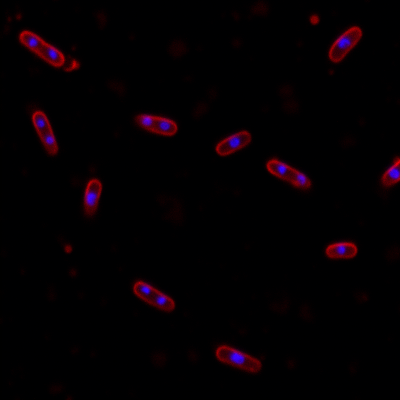CAM: (18, 30, 65, 68), (265, 158, 312, 191), (327, 26, 365, 64), (132, 280, 176, 312), (216, 344, 262, 373), (213, 129, 253, 157), (326, 240, 359, 261)
Oblique: (30, 110, 59, 157), (134, 114, 178, 137), (82, 177, 103, 218)
Vesicle: (63, 243, 74, 255), (309, 16, 319, 26)
